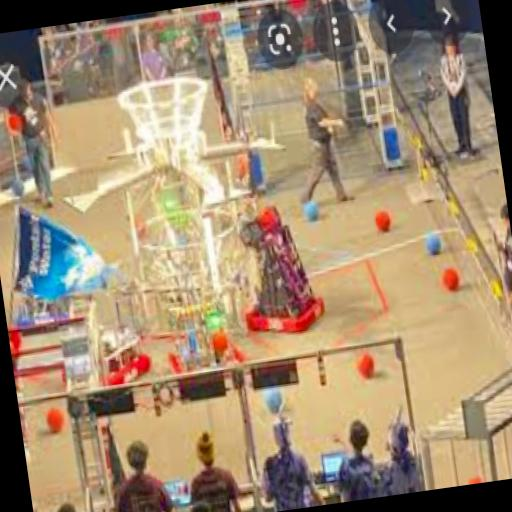robot: (227, 196, 324, 336), (50, 290, 158, 400), (0, 222, 97, 332), (158, 286, 250, 381)
